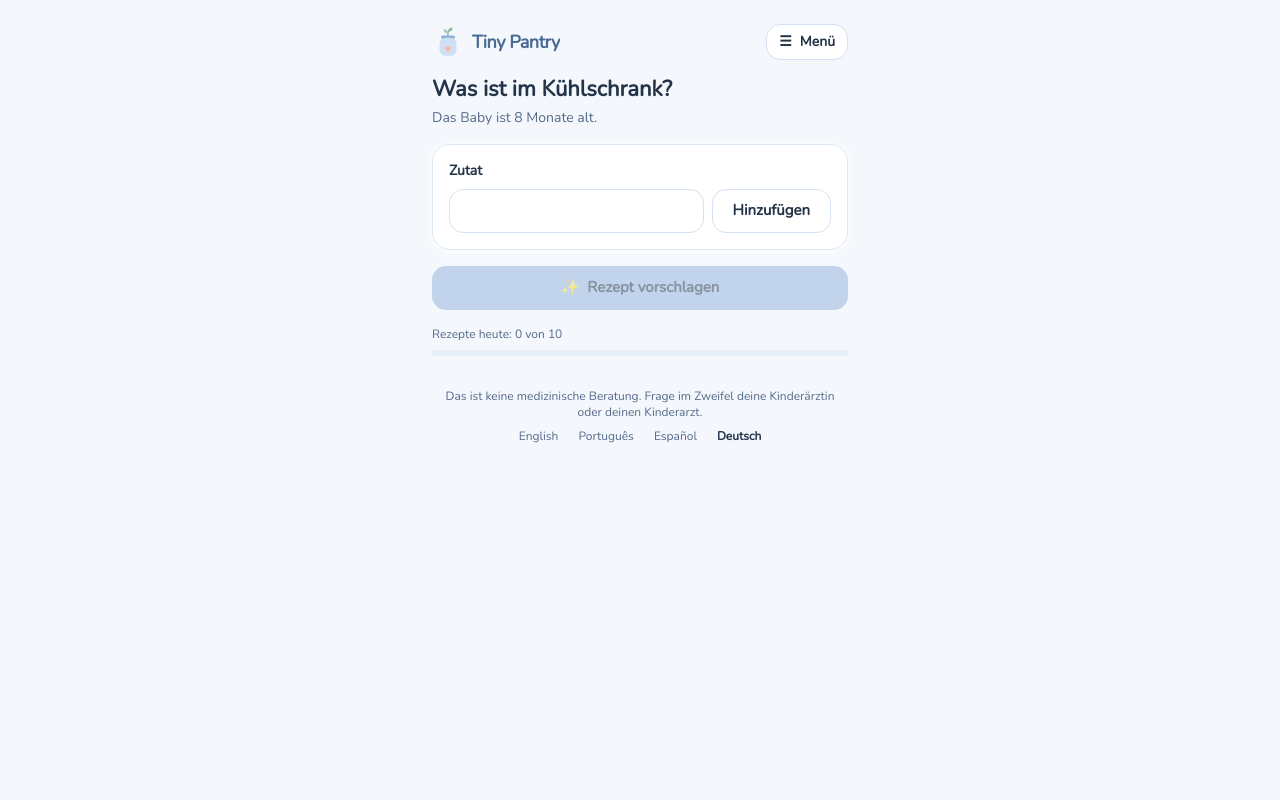
Scenario: the delete-account dialog is fully in de
The image size is (1280, 800).
Click the button "☰ Menü": (807, 42) [766,24,848,60]
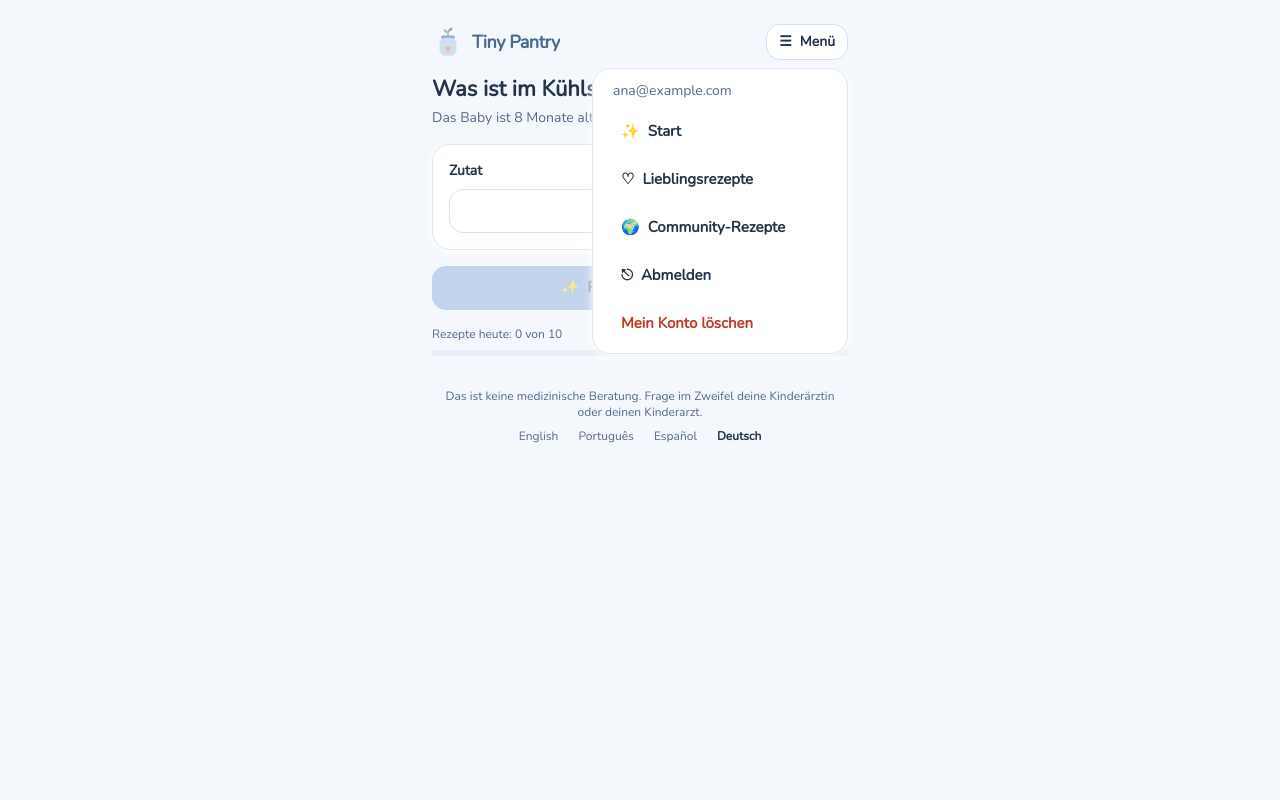
Click the button "Mein Konto löschen": (720, 323) [601,301,839,345]
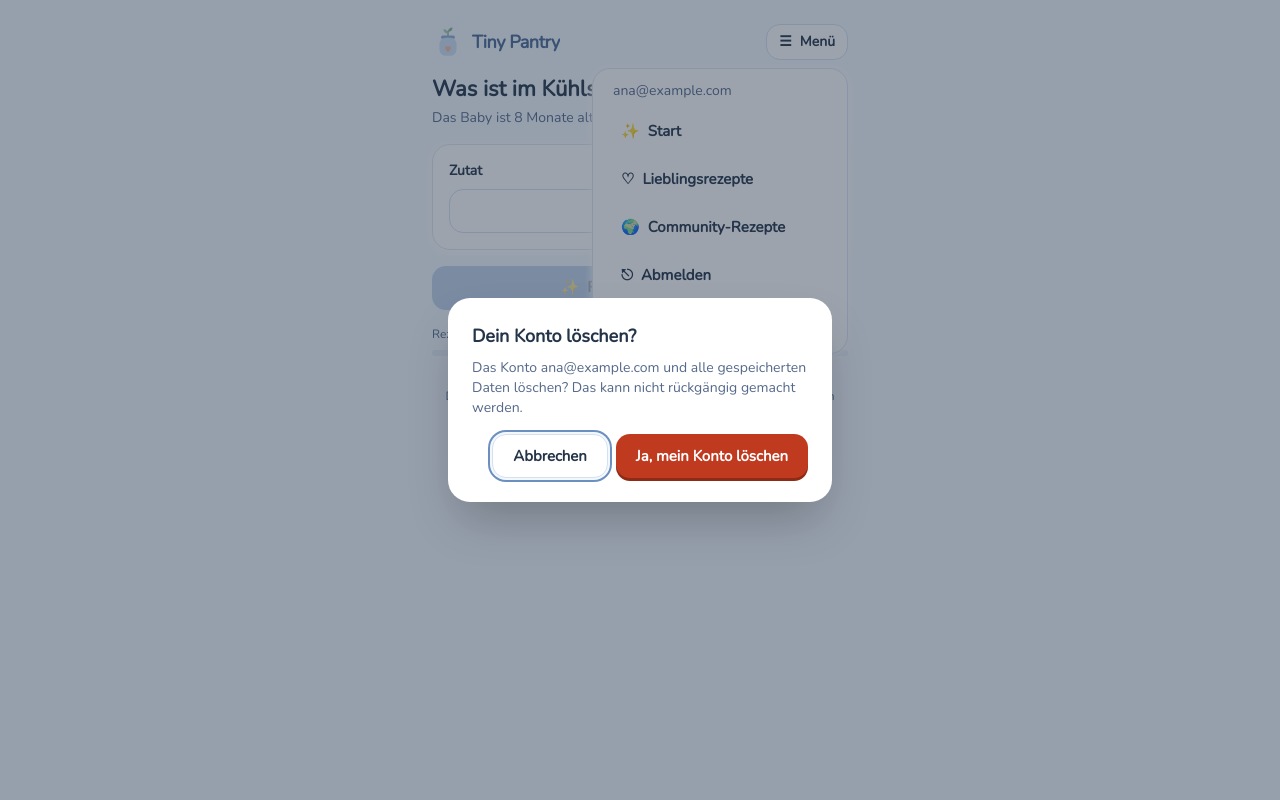
Check: the button "Abbrechen" is shown, box [492,434,608,478]
Check: the button "Ja, mein Konto löschen" is shown, box [616,434,808,478]
